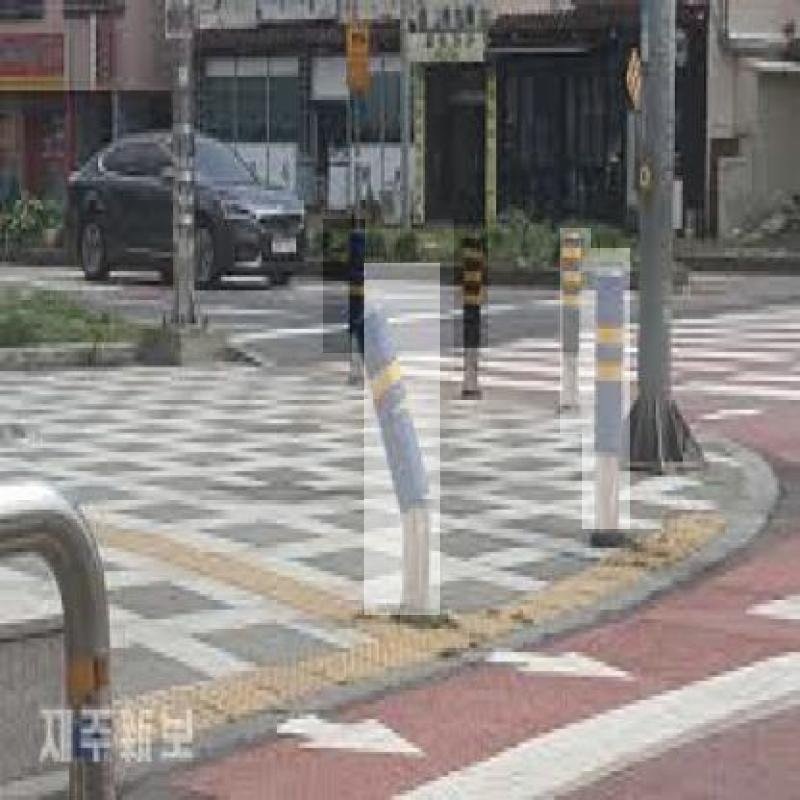bolard: (364, 264, 440, 615), (582, 248, 631, 529), (560, 228, 591, 434), (323, 219, 365, 353), (454, 219, 488, 371)
